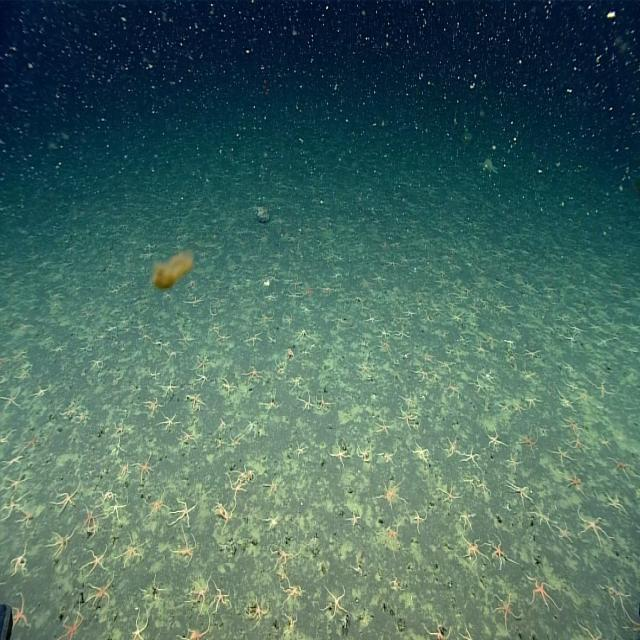brittle-stars: (525, 570, 558, 614), (578, 511, 607, 546), (8, 592, 31, 634), (493, 593, 518, 629), (323, 587, 350, 619), (58, 609, 85, 640), (488, 537, 512, 571), (507, 479, 534, 508), (122, 534, 146, 565), (171, 497, 195, 528), (174, 532, 197, 564), (88, 581, 114, 609), (379, 480, 403, 510), (600, 582, 627, 608), (272, 545, 296, 573), (50, 529, 74, 557), (188, 580, 210, 610), (54, 487, 80, 512), (216, 499, 236, 531), (579, 618, 608, 640), (9, 544, 28, 577), (517, 429, 539, 457), (140, 579, 164, 604), (282, 610, 302, 640), (85, 549, 108, 575), (2, 471, 28, 494), (0, 496, 23, 522), (462, 537, 484, 564), (212, 586, 232, 615), (280, 581, 304, 605), (440, 482, 461, 509), (331, 441, 352, 468), (564, 468, 585, 495), (426, 619, 453, 640), (146, 492, 168, 517), (618, 609, 640, 634), (602, 487, 623, 513), (248, 597, 268, 624), (229, 479, 249, 506), (382, 523, 401, 551), (0, 387, 22, 410), (551, 445, 574, 467), (556, 388, 577, 412), (607, 492, 628, 516), (130, 615, 150, 640), (180, 624, 211, 640), (530, 510, 556, 529), (137, 453, 155, 480), (0, 451, 24, 471), (264, 389, 283, 414), (561, 415, 583, 436), (107, 498, 126, 522), (23, 432, 42, 456), (486, 429, 504, 454), (605, 459, 635, 474), (592, 377, 613, 398), (412, 442, 431, 465), (244, 363, 264, 384), (185, 391, 205, 412), (464, 445, 483, 467), (570, 436, 589, 457), (520, 363, 539, 384), (19, 508, 36, 531), (558, 524, 574, 548), (244, 330, 264, 349), (162, 412, 180, 433), (219, 377, 236, 399), (444, 438, 461, 460), (458, 511, 474, 534), (414, 364, 433, 383), (180, 427, 197, 448), (375, 416, 392, 437), (300, 390, 316, 412), (30, 384, 49, 402), (143, 398, 160, 418), (265, 477, 282, 497), (85, 507, 98, 533), (162, 377, 178, 398), (316, 392, 332, 413), (356, 443, 372, 464), (412, 510, 427, 532), (113, 419, 130, 438), (524, 344, 541, 363), (401, 409, 416, 430), (379, 449, 396, 467), (356, 359, 374, 376), (178, 330, 195, 348), (195, 353, 211, 372), (351, 559, 367, 578), (110, 439, 125, 459), (471, 378, 486, 398), (236, 467, 253, 484), (258, 311, 276, 327), (99, 487, 115, 505), (394, 323, 409, 342), (447, 380, 462, 399), (266, 512, 280, 532), (116, 460, 130, 480), (475, 341, 489, 361), (348, 510, 362, 530), (195, 372, 212, 388), (297, 324, 313, 341), (508, 454, 523, 472), (0, 429, 15, 447), (526, 394, 542, 410), (449, 311, 465, 327), (387, 575, 403, 591), (458, 624, 474, 640), (91, 355, 106, 372), (286, 288, 303, 303), (479, 477, 494, 494), (293, 441, 307, 459), (403, 391, 417, 409), (148, 362, 162, 380), (514, 397, 527, 416), (274, 359, 287, 378), (228, 433, 241, 452), (464, 473, 477, 492), (365, 310, 380, 326), (404, 305, 418, 322), (245, 418, 258, 436), (167, 347, 181, 363), (564, 377, 578, 392), (290, 375, 303, 391), (439, 358, 455, 371), (206, 322, 223, 334), (211, 434, 224, 449), (376, 340, 392, 352), (155, 339, 167, 354), (57, 408, 74, 418), (578, 389, 590, 403), (420, 350, 434, 362), (480, 372, 496, 382), (498, 400, 511, 412), (284, 348, 295, 362), (219, 329, 230, 343), (50, 346, 65, 356), (600, 436, 610, 450), (380, 326, 390, 340), (352, 295, 364, 306), (484, 334, 497, 344), (217, 542, 231, 551), (75, 412, 86, 423), (263, 294, 276, 303), (359, 338, 370, 348), (265, 335, 275, 346), (284, 314, 292, 326), (81, 344, 90, 354), (504, 339, 516, 346), (300, 306, 310, 314), (218, 420, 225, 429), (144, 334, 150, 344)
